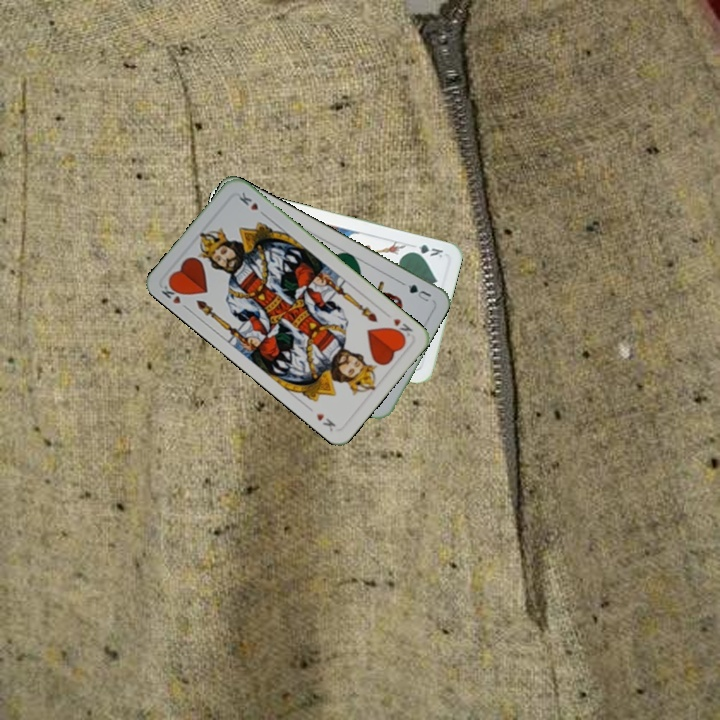GK: (406, 240, 446, 260)
GU: (404, 280, 434, 305)
HK: (157, 278, 187, 307), (387, 314, 415, 341)
